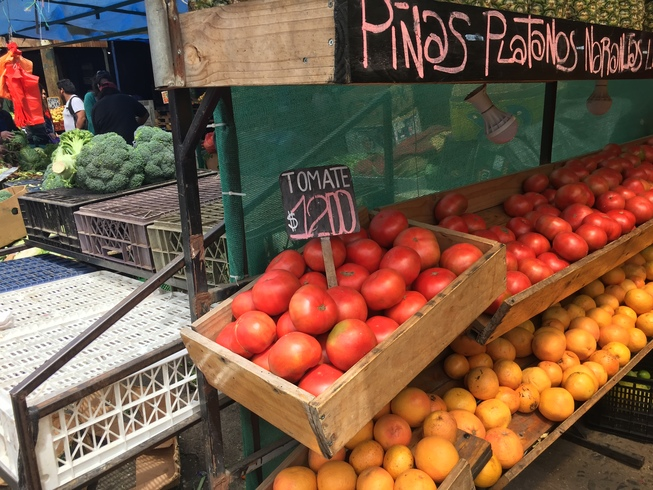precio: (263, 154, 364, 247)
